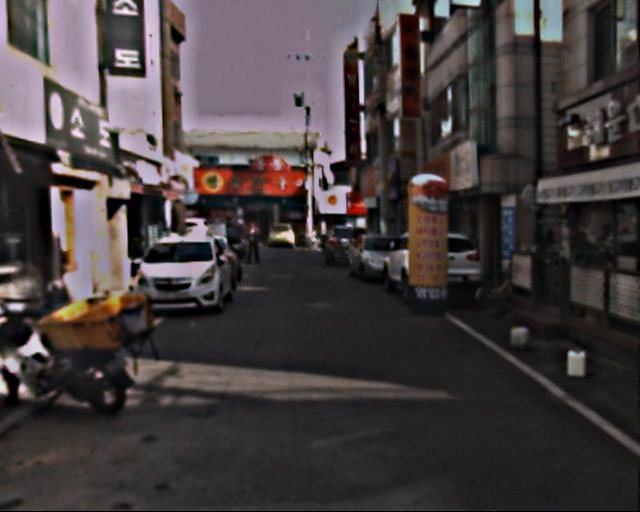person: (247, 221, 266, 264)
